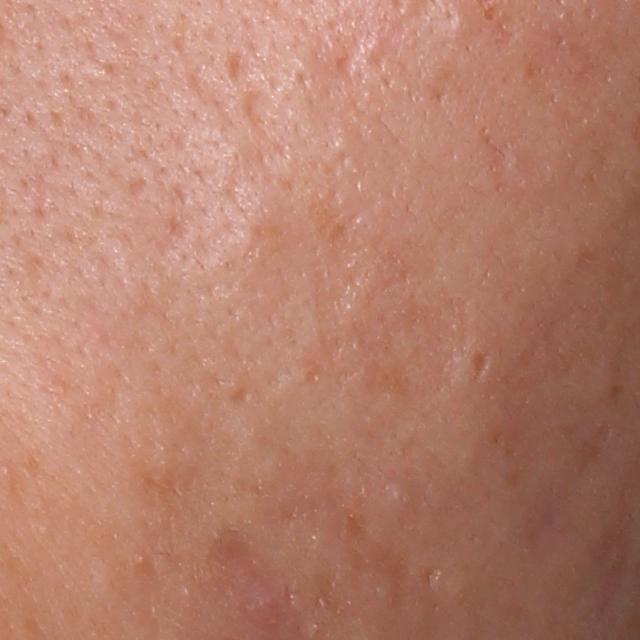atrophic_scar: (347, 244, 472, 417), (242, 92, 277, 143), (225, 48, 249, 83), (471, 349, 491, 383), (420, 563, 440, 590), (225, 385, 252, 405)
comedo: (384, 478, 416, 513), (132, 547, 151, 571)
